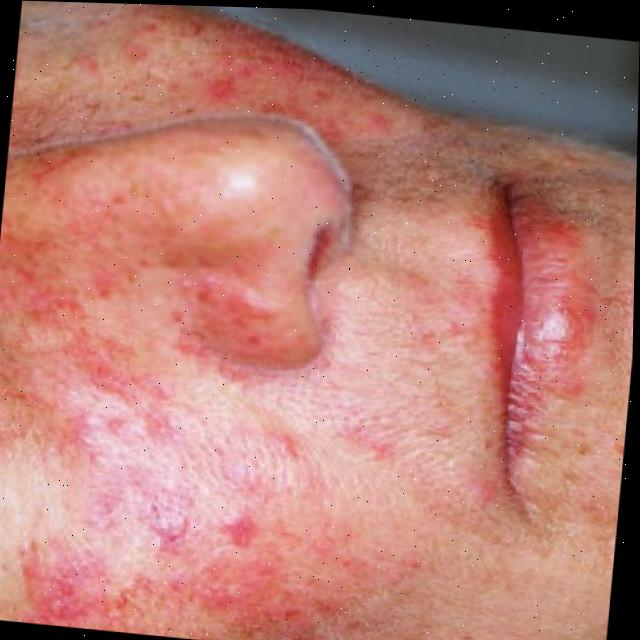Rosacea: (0, 358, 365, 640), (43, 171, 276, 337), (145, 15, 344, 114)
